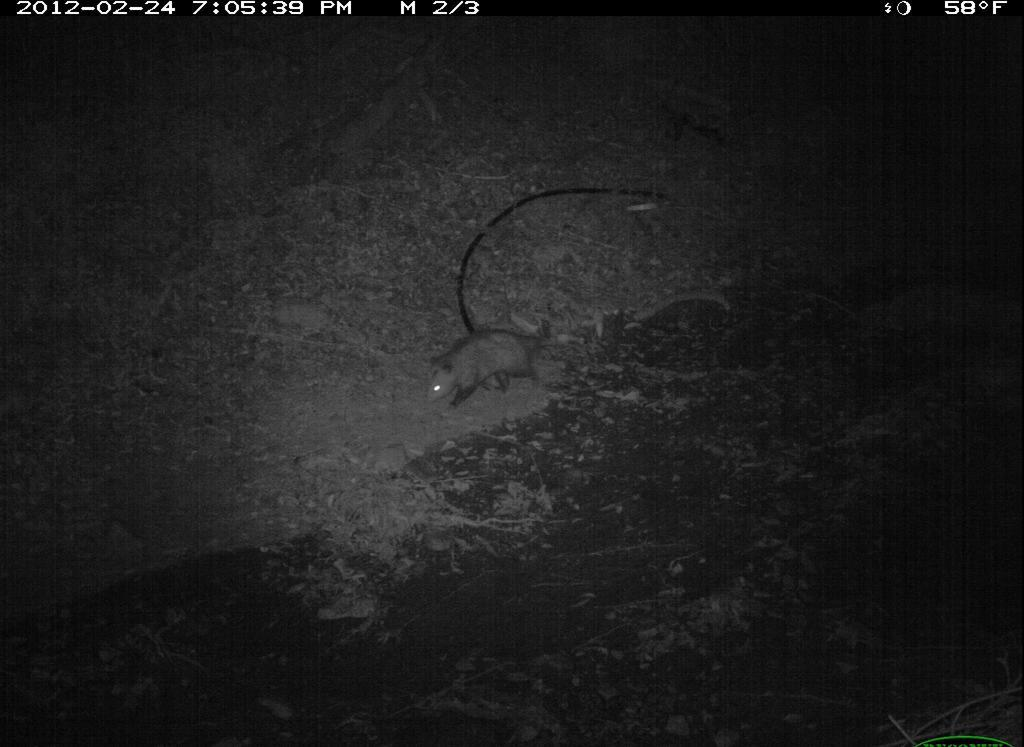opossum: (417, 319, 573, 425)
